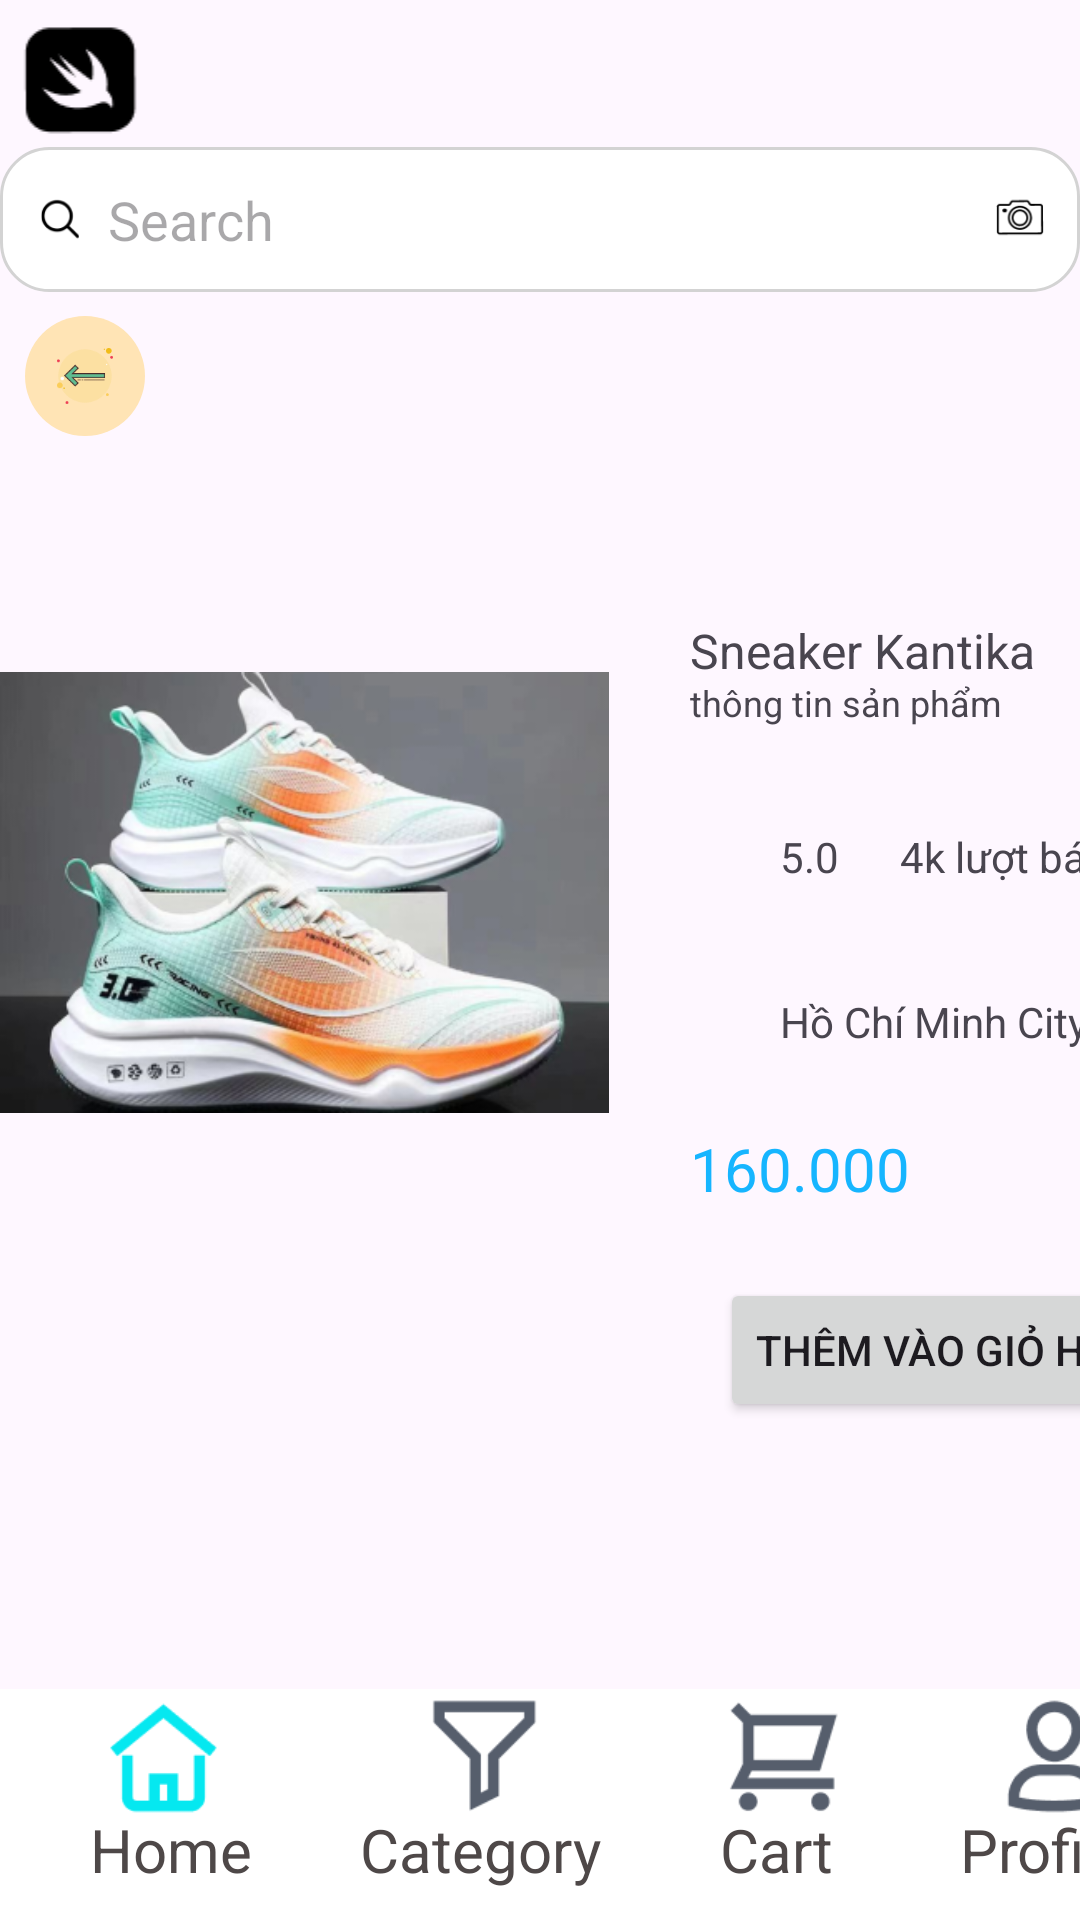

Point at icon controls on the screen. Image size 1080px x 1920px, points as [x,y].
Back Icon: [85,376]
Camera Icon: [1020,217]
